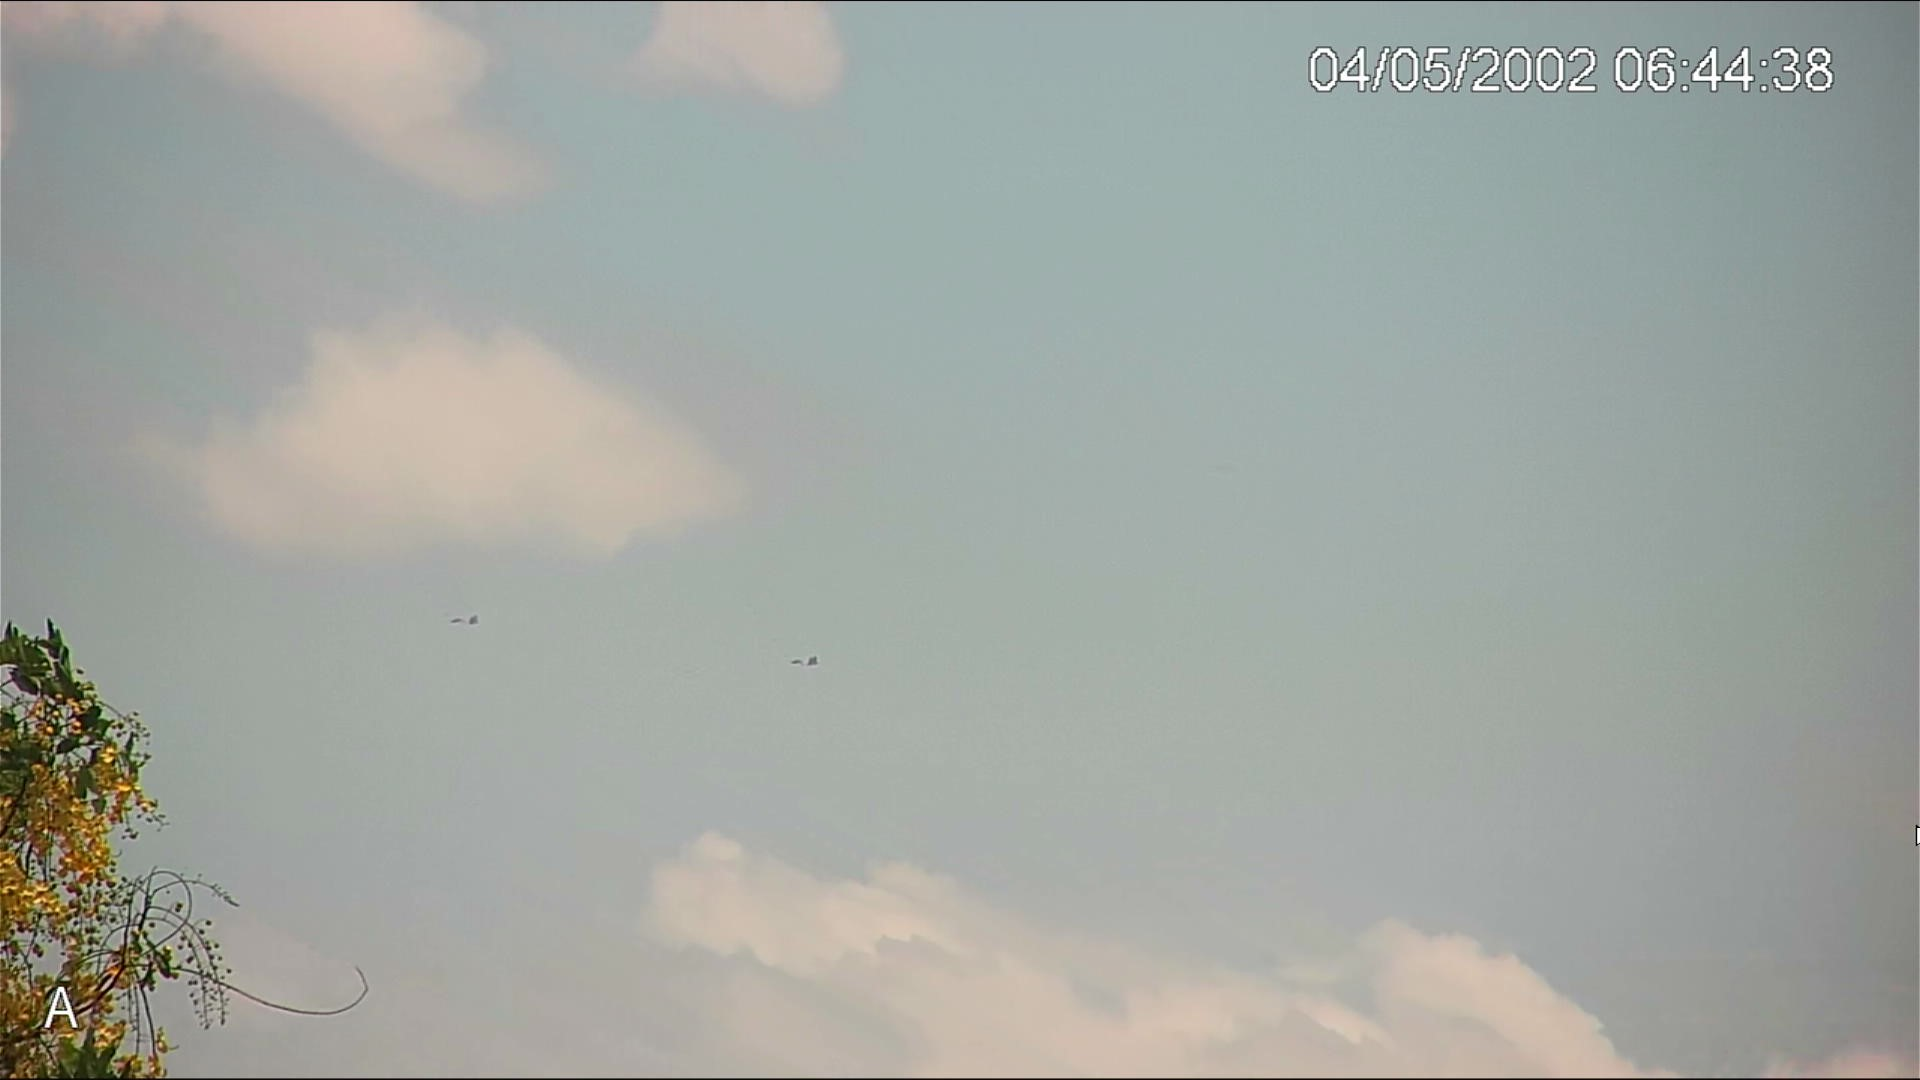SU_30: (447, 611, 480, 626), (789, 653, 819, 667)
